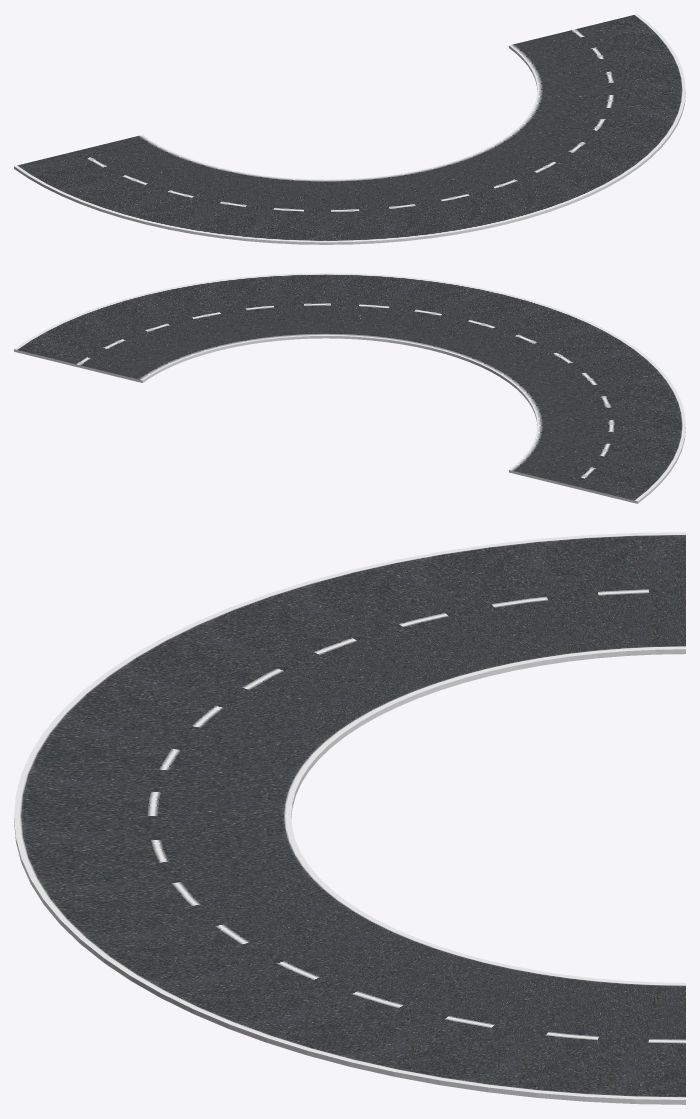
The model's file is curved_road_10.dae.
3 renders of one model, top to bottom at view 1: azimuth 30°, elevation 25°; view 2: azimuth 150°, elevation 25°; view 3: azimuth 270°, elevation 25°, orthographic. The views are drawn at different scales.
Visible parts, largest first — view 1: Cube; view 2: Cube; view 3: Cube.
Boxes of the visible parts, left/top/right/bottom form: Cube: left=14, top=14, right=685, bottom=244; Cube: left=14, top=273, right=685, bottom=503; Cube: left=14, top=532, right=685, bottom=1104.
Bounding box in the file's own units: 25.2 × 12.6 × 0.1.
Materials: 1 (1 with a texture image).
